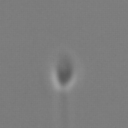normal: (56, 92, 73, 128)
